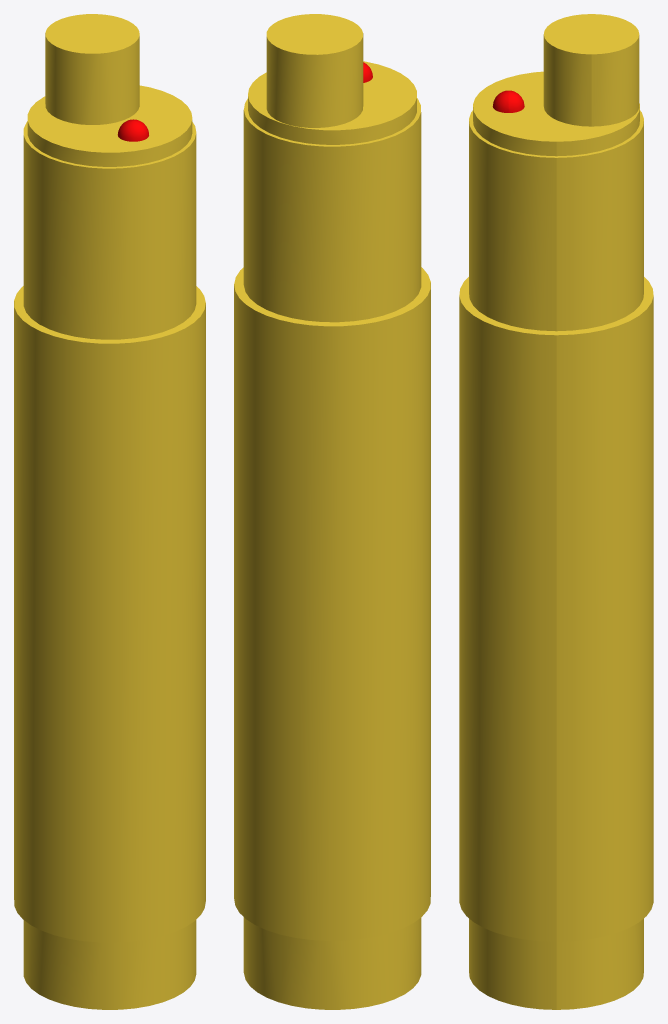
File: prox_sensor.glb
3 views of the same model, side by side, from view 1: azimuth 30°, elevation 25°; view 2: azimuth 150°, elevation 25°; view 3: azimuth 270°, elevation 25° (orthographic). The views are drawn at different scales.
Parts seen in each view (by area): view 1: prox_sensor; view 2: prox_sensor; view 3: prox_sensor.
Part boxes in pixels (left/top/right/bottom): prox_sensor: left=14, top=14, right=205, bottom=1009; prox_sensor: left=234, top=14, right=430, bottom=1009; prox_sensor: left=459, top=14, right=653, bottom=1009.
Bounding box in the file's own units: 0.0122 × 0.065 × 0.0122.
